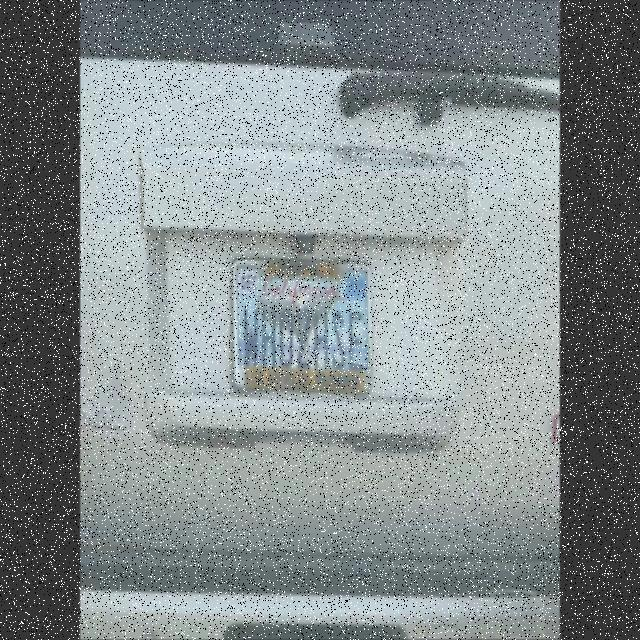licenseplate: (220, 240, 390, 408)
